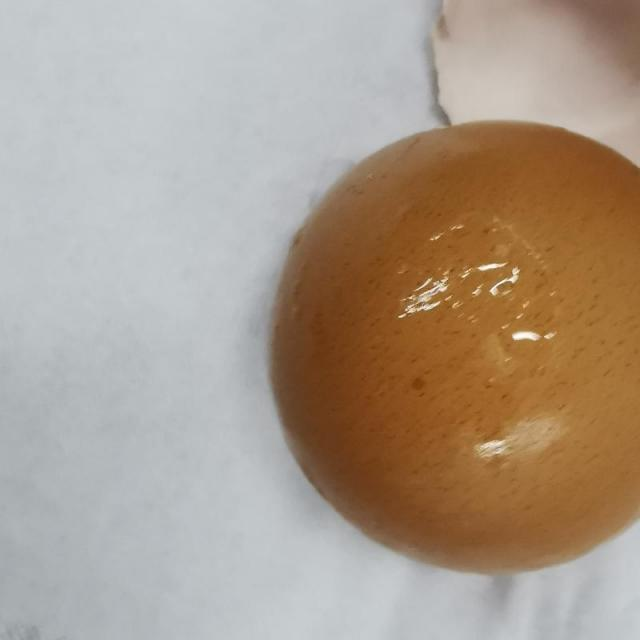egg shell: (266, 123, 639, 573), (431, 0, 640, 132)
